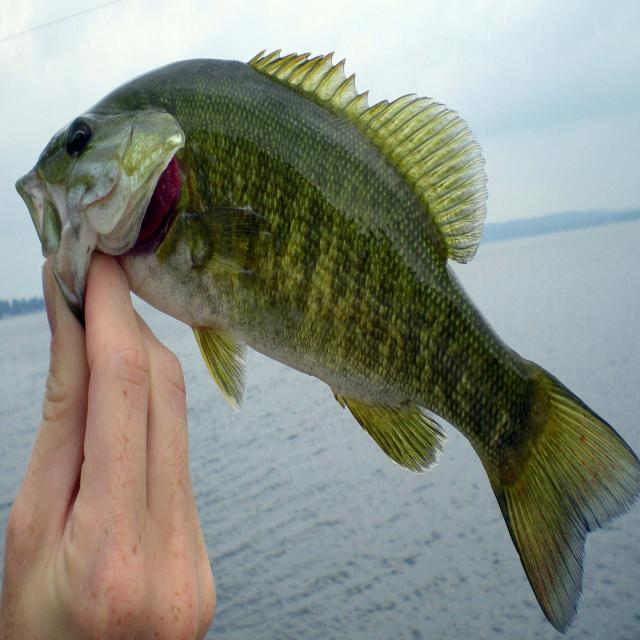Bass - Smallmouth: (16, 51, 640, 632)
